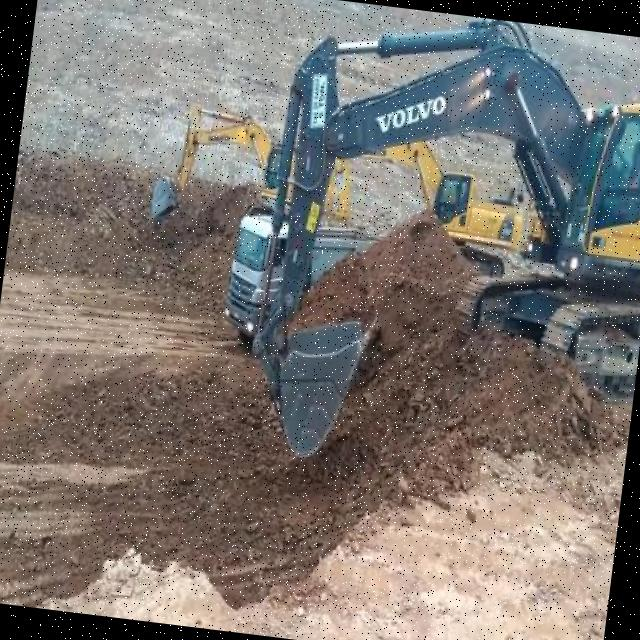Dump Truck: (220, 208, 384, 352)
Excavator: (237, 0, 640, 501), (316, 129, 532, 288), (150, 98, 361, 240)
